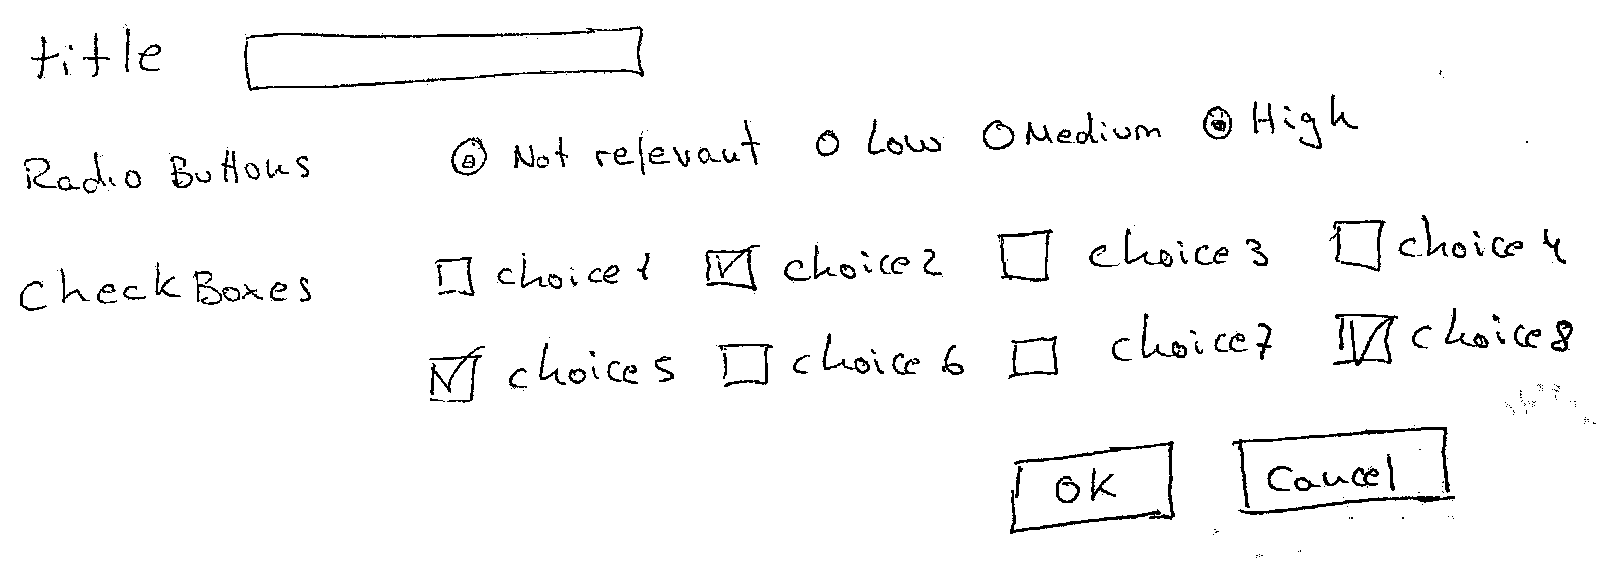Button: (1233, 422, 1457, 520), (1006, 432, 1180, 540)
Check Box: (994, 220, 1274, 293), (1324, 295, 1576, 369), (1008, 314, 1278, 381), (424, 338, 686, 407), (700, 232, 949, 299), (1329, 201, 1533, 271), (712, 336, 970, 391), (427, 244, 657, 299)
Heading: (24, 24, 169, 85)
Radio Button: (443, 116, 765, 183), (1196, 91, 1363, 154)
Textbox: (237, 22, 651, 95)
